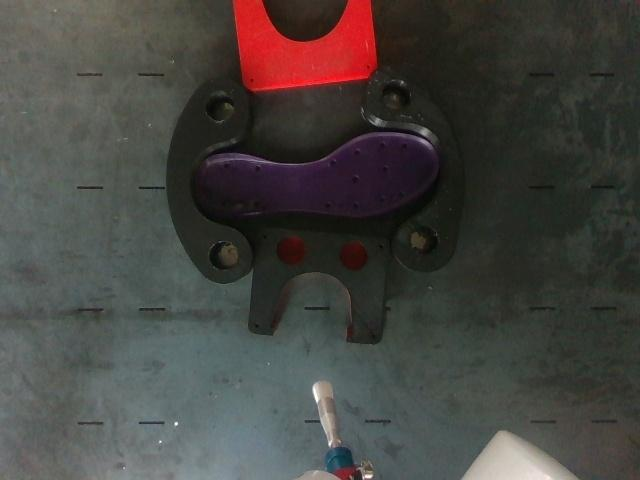shoes: (197, 134, 437, 216)
